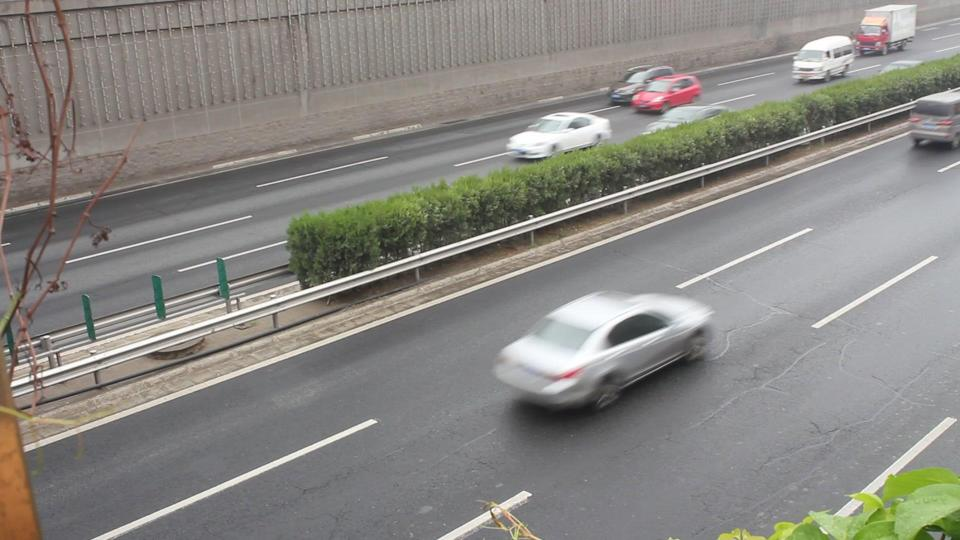car: (492, 290, 719, 414), (506, 112, 612, 161), (629, 73, 704, 115), (608, 65, 677, 106), (641, 99, 724, 130)
truck: (849, 4, 918, 57), (908, 87, 960, 149), (792, 35, 859, 83)
